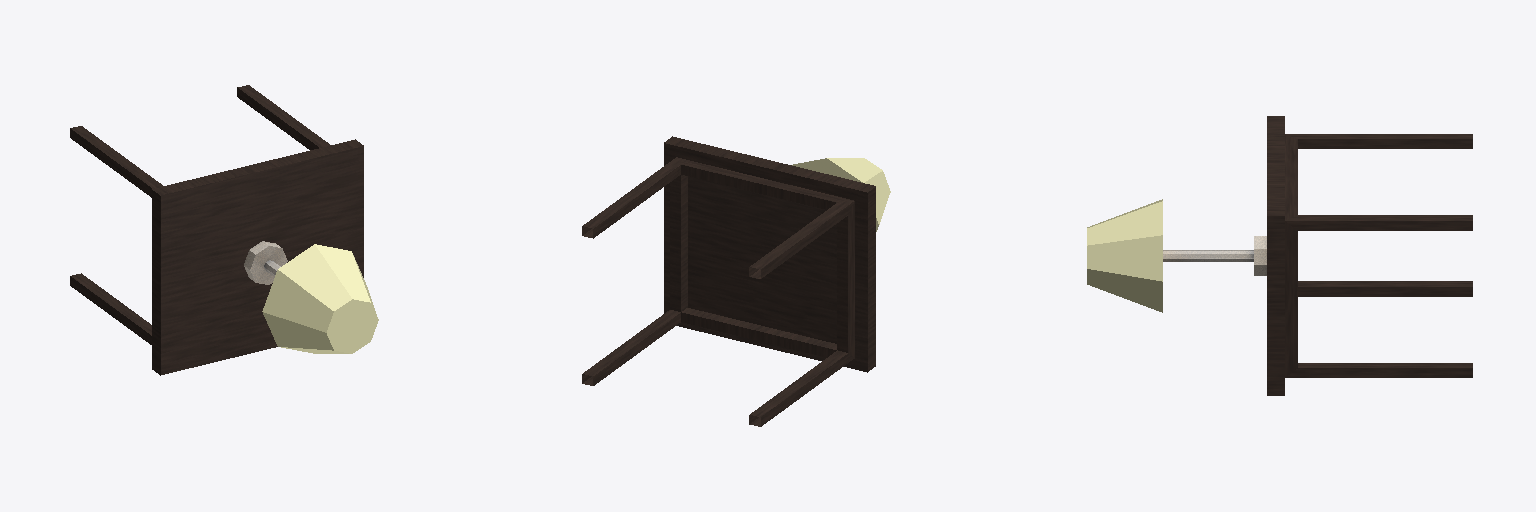
The picture shows the model from 3 angles: view 1: azimuth 30°, elevation 25°; view 2: azimuth 150°, elevation 25°; view 3: azimuth 270°, elevation 25°; orthographic projection.
Parts seen in each view (by area): view 1: lns_Cube.001; view 2: lns_Cube.001; view 3: lns_Cube.001.
Boxes of the visible parts, x1=… form: lns_Cube.001: x1=70, y1=85, x2=378, y2=375; lns_Cube.001: x1=582, y1=136, x2=890, y2=426; lns_Cube.001: x1=1087, y1=116, x2=1472, y2=395.
Bounding box in the file's own units: 0.6222 × 0.5246 × 1.02.
Materials: 1 (1 with a texture image).